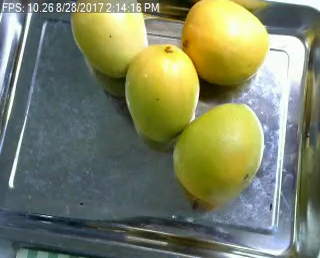Mango: (174, 102, 264, 204), (180, 1, 267, 84), (124, 45, 199, 138), (70, 0, 149, 79)
